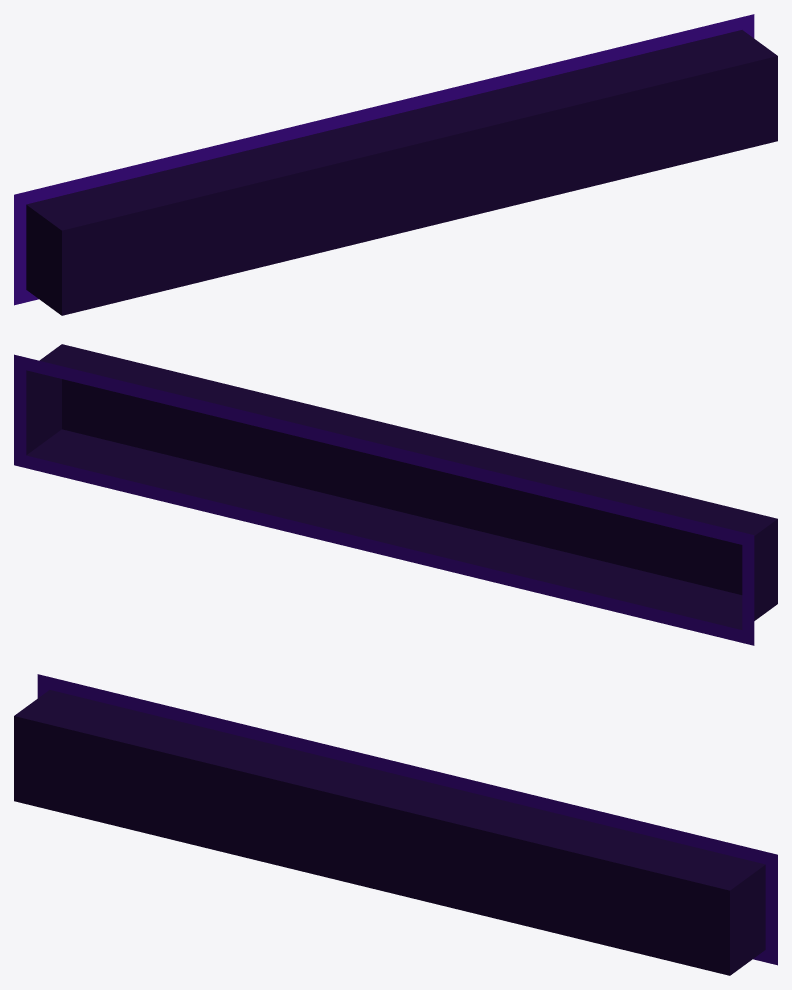
File: DecorativePartLong1.fbx
The picture shows the model from 3 angles, top to bottom: view 1: azimuth 30°, elevation 25°; view 2: azimuth 150°, elevation 25°; view 3: azimuth 330°, elevation 25°; orthographic projection.
Parts seen in each view (by area): view 1: Plane.008; view 2: Plane.008; view 3: Plane.008.
Boxes of the visible parts, bbox=[...] form: Plane.008: bbox=[14, 14, 777, 315]; Plane.008: bbox=[14, 344, 777, 645]; Plane.008: bbox=[14, 674, 777, 975].
Size of the model in its own units: 14000 by 2000 by 1172.
